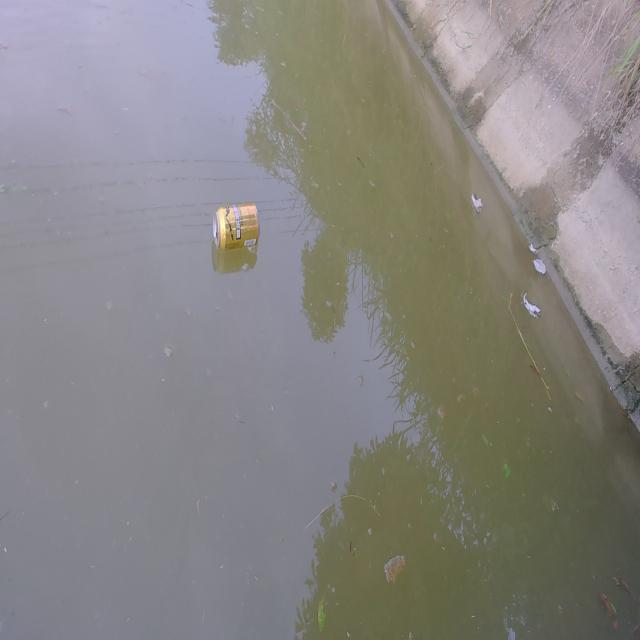garbage: (213, 202, 260, 251)
